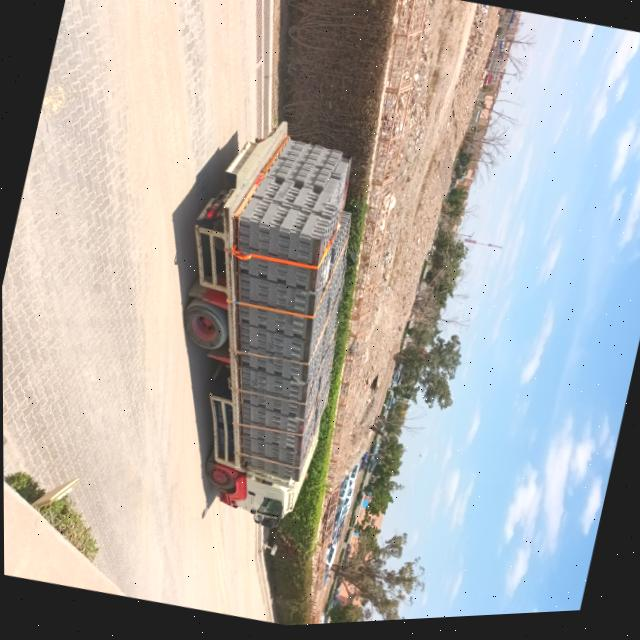bricks: (238, 140, 350, 485)
